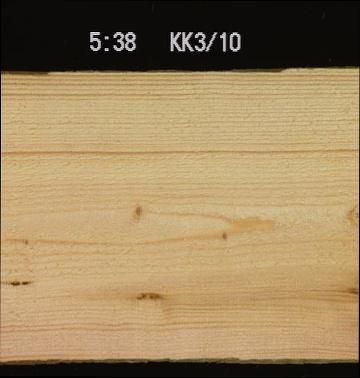small_knot: (133, 205, 142, 216), (219, 229, 227, 240), (22, 237, 28, 245)
